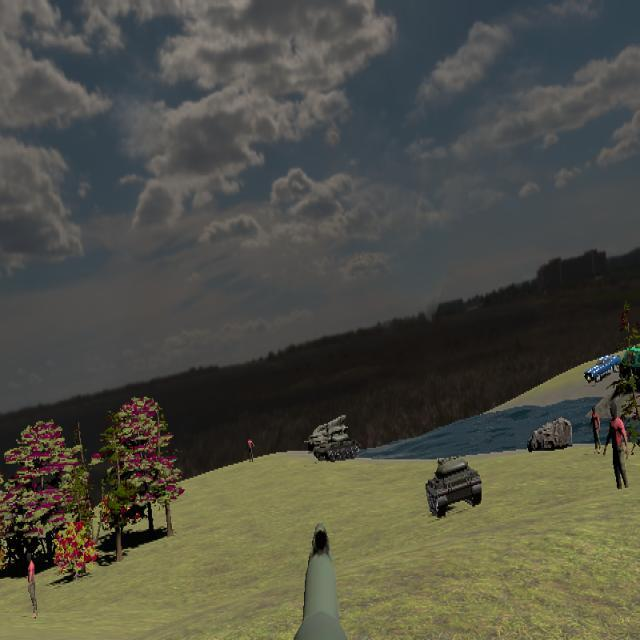Human: (604, 402, 628, 496), (27, 550, 39, 619)
Tank: (424, 454, 482, 518), (306, 431, 360, 463)
car: (584, 357, 617, 384), (620, 347, 640, 383)
